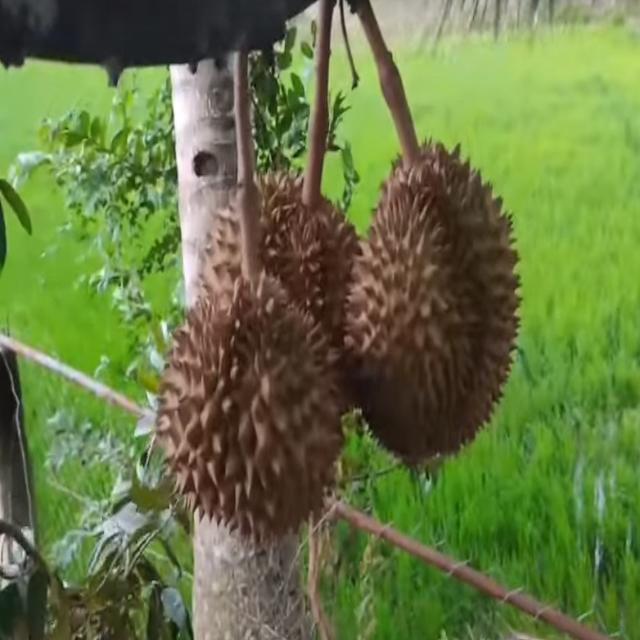mature: (346, 140, 522, 470), (158, 269, 346, 554)
